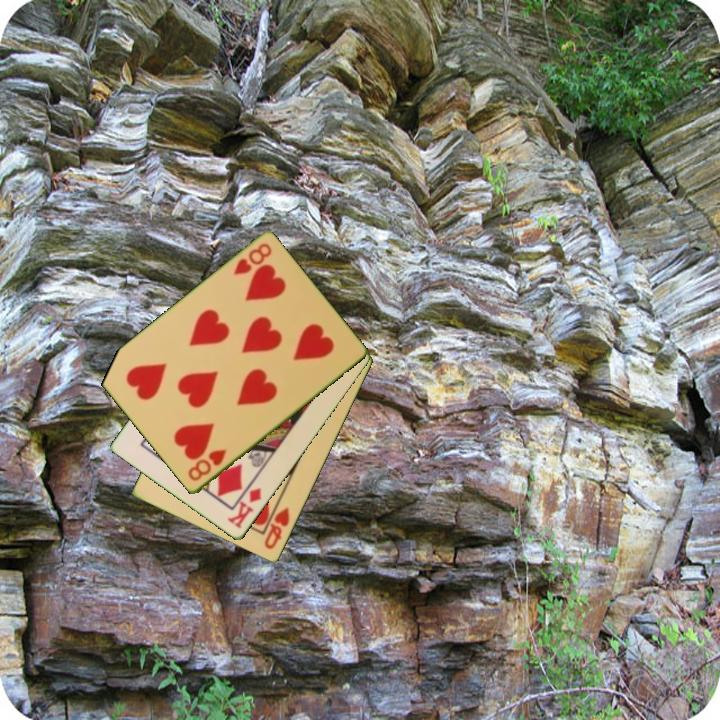8h: (184, 446, 229, 484), (230, 240, 275, 278)
Kd: (224, 484, 264, 532)
Qh: (261, 504, 293, 552)
